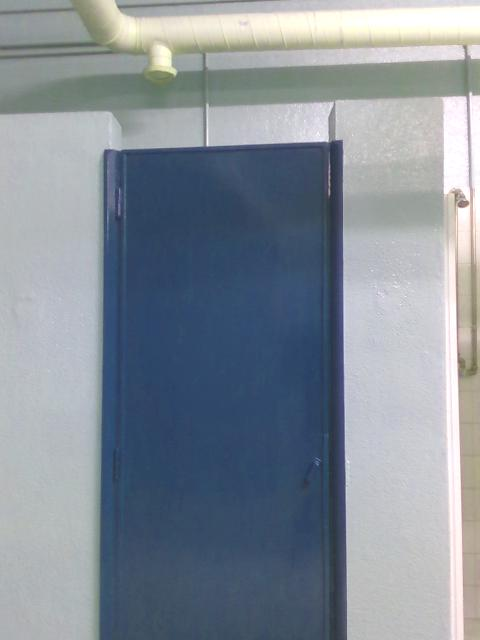closed_door: (100, 139, 342, 639)
